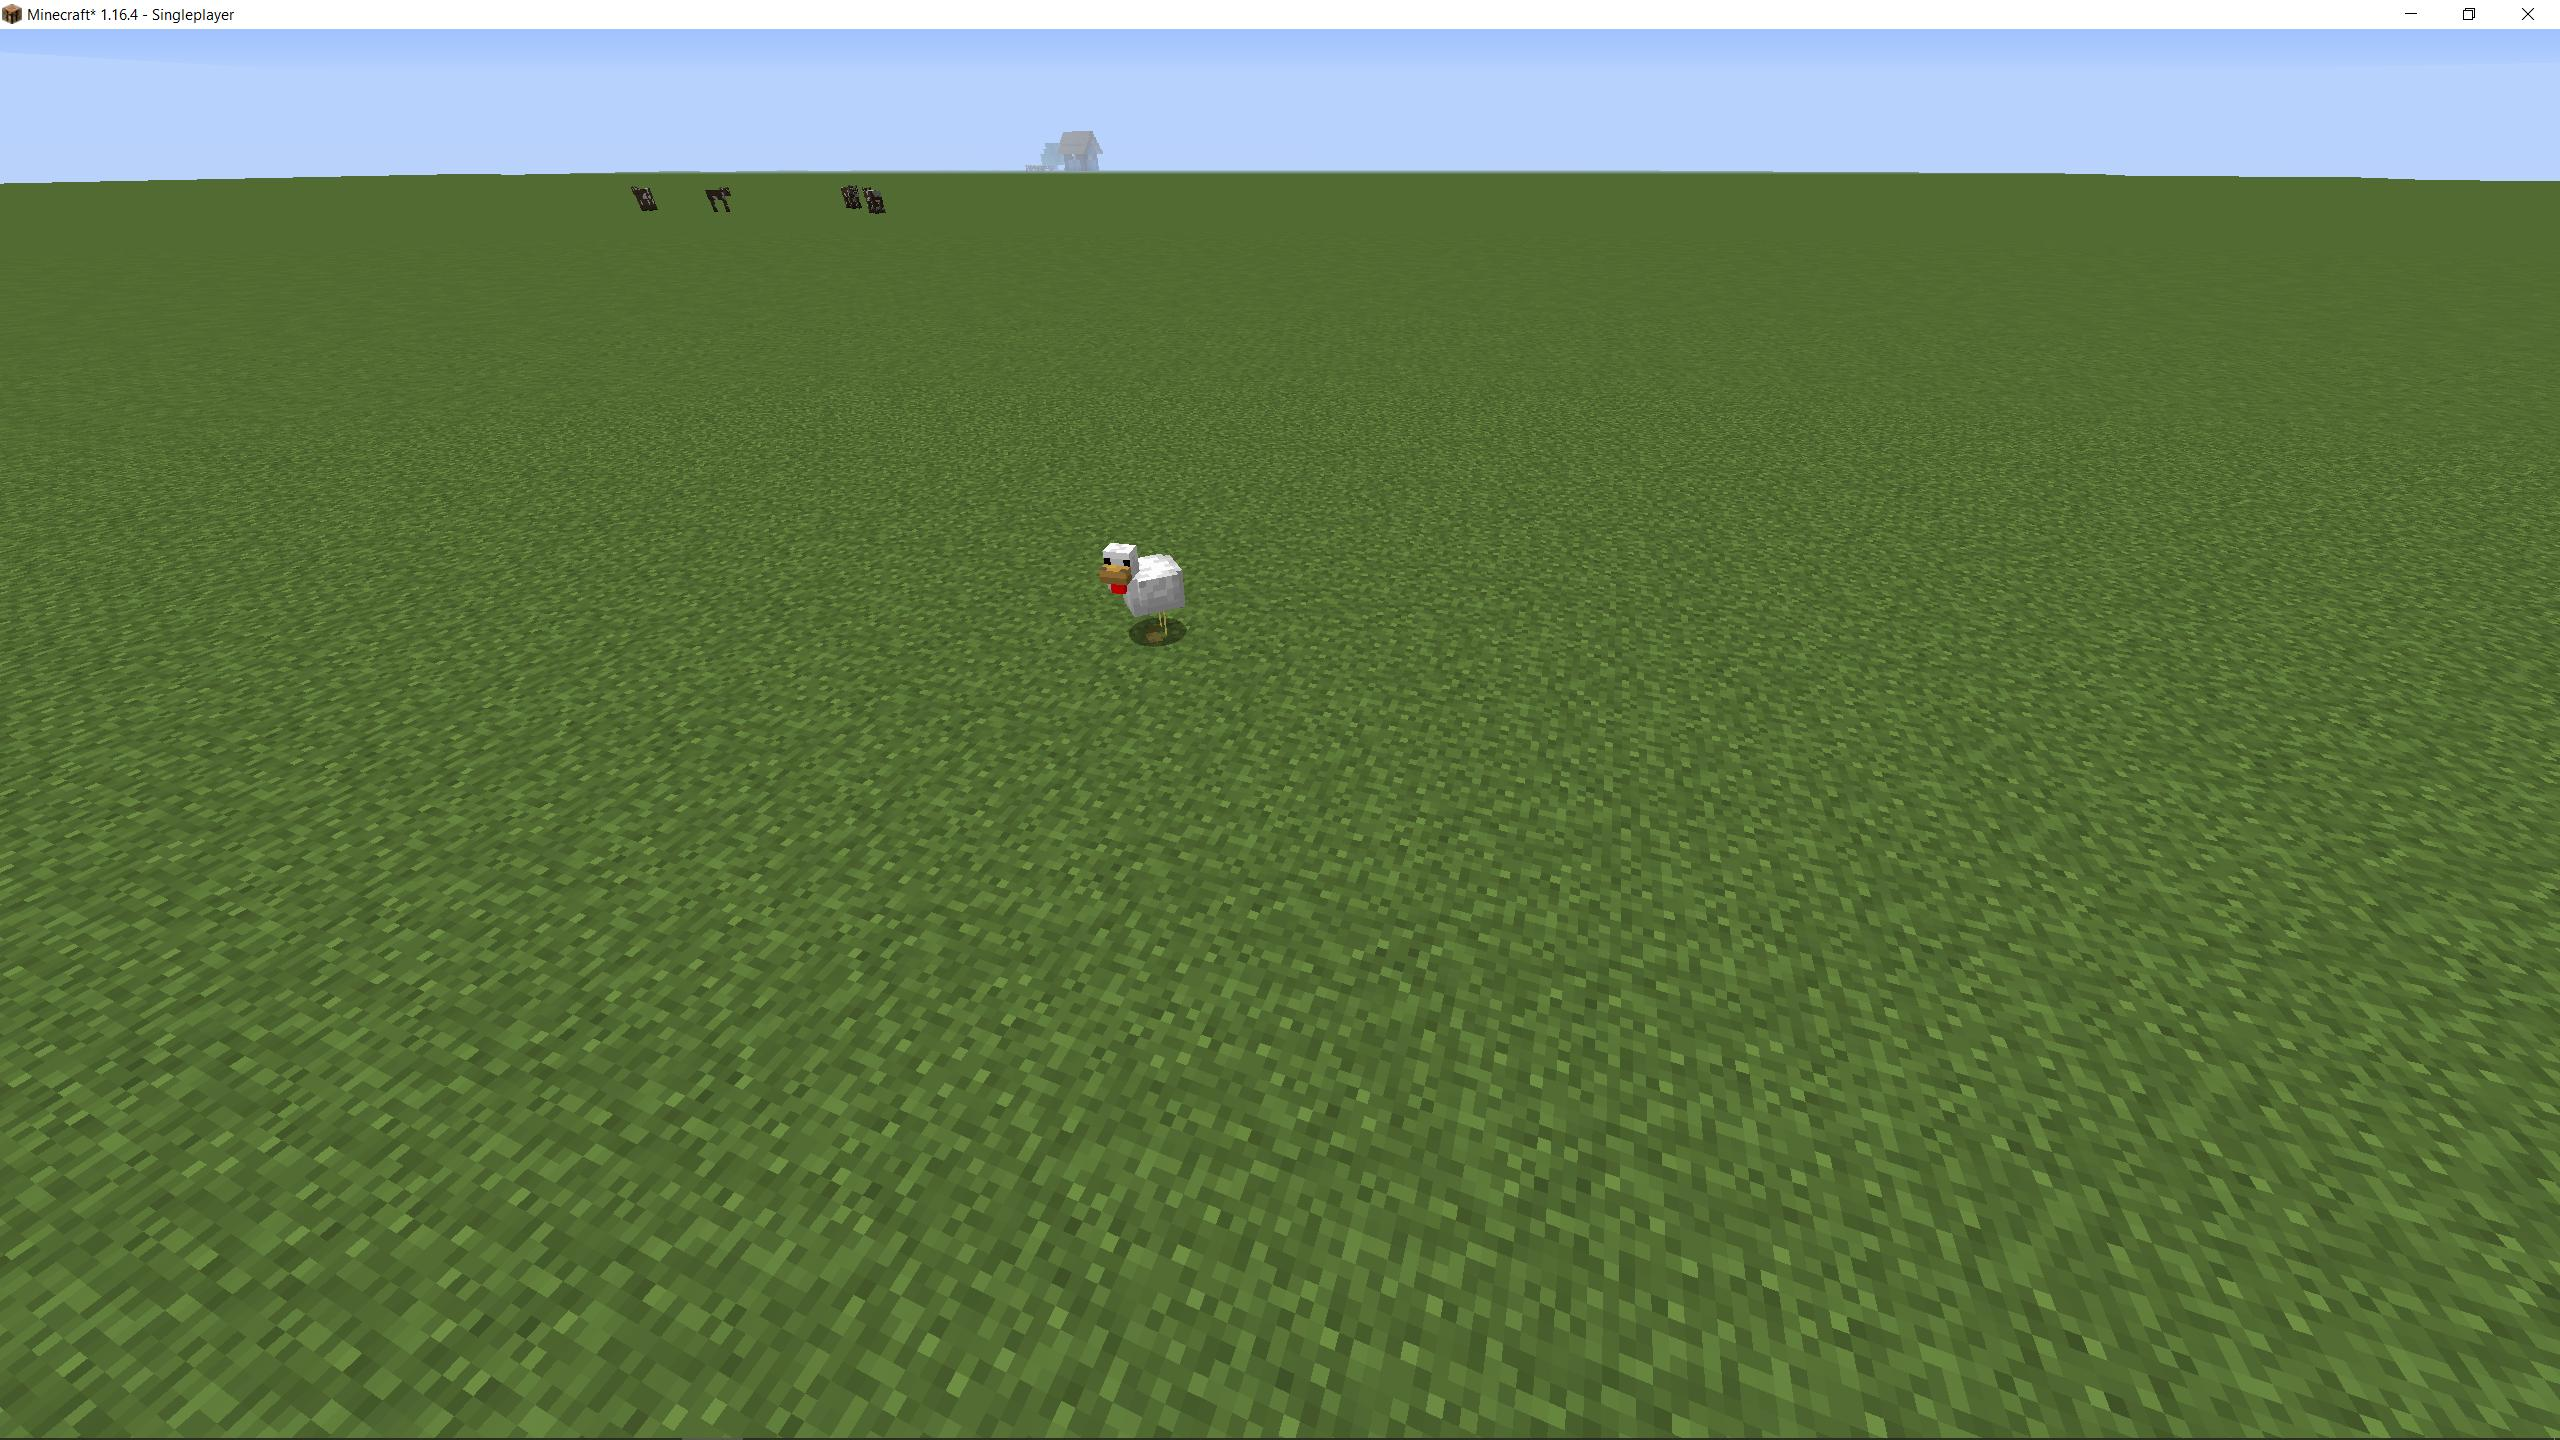chicken: (1101, 543, 1196, 644)
